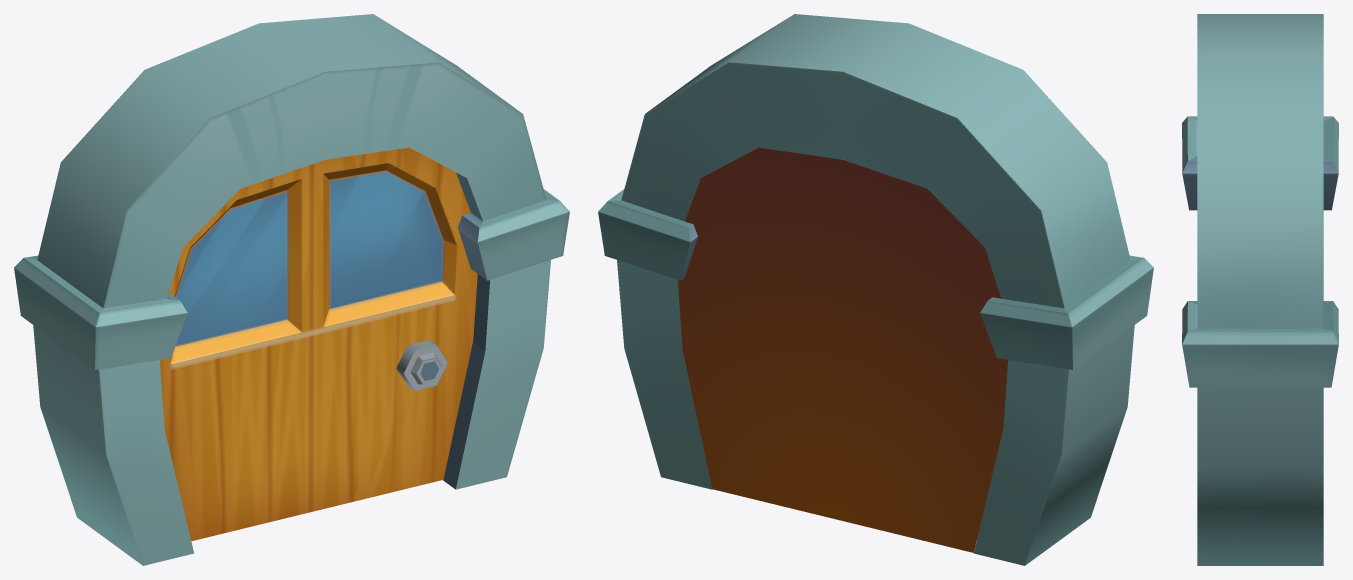
Rendered from Door_A.FBX.
3 views of the same model, side by side, from view 1: azimuth 30°, elevation 25°; view 2: azimuth 150°, elevation 25°; view 3: azimuth 270°, elevation 25° (orthographic). The views are drawn at different scales.
Visible parts, largest first — view 1: Door_Case, Door_Plank; view 2: Door_Case; view 3: Door_Case.
Part boxes in pixels (x1=…): Door_Case: x1=14, y1=14, x2=569, y2=565; Door_Plank: x1=160, y1=147, x2=477, y2=541; Door_Case: x1=598, y1=14, x2=1153, y2=565; Door_Case: x1=1182, y1=14, x2=1338, y2=565.
Size of the model in its own units: 3.94 by 3.57 by 1.18.
